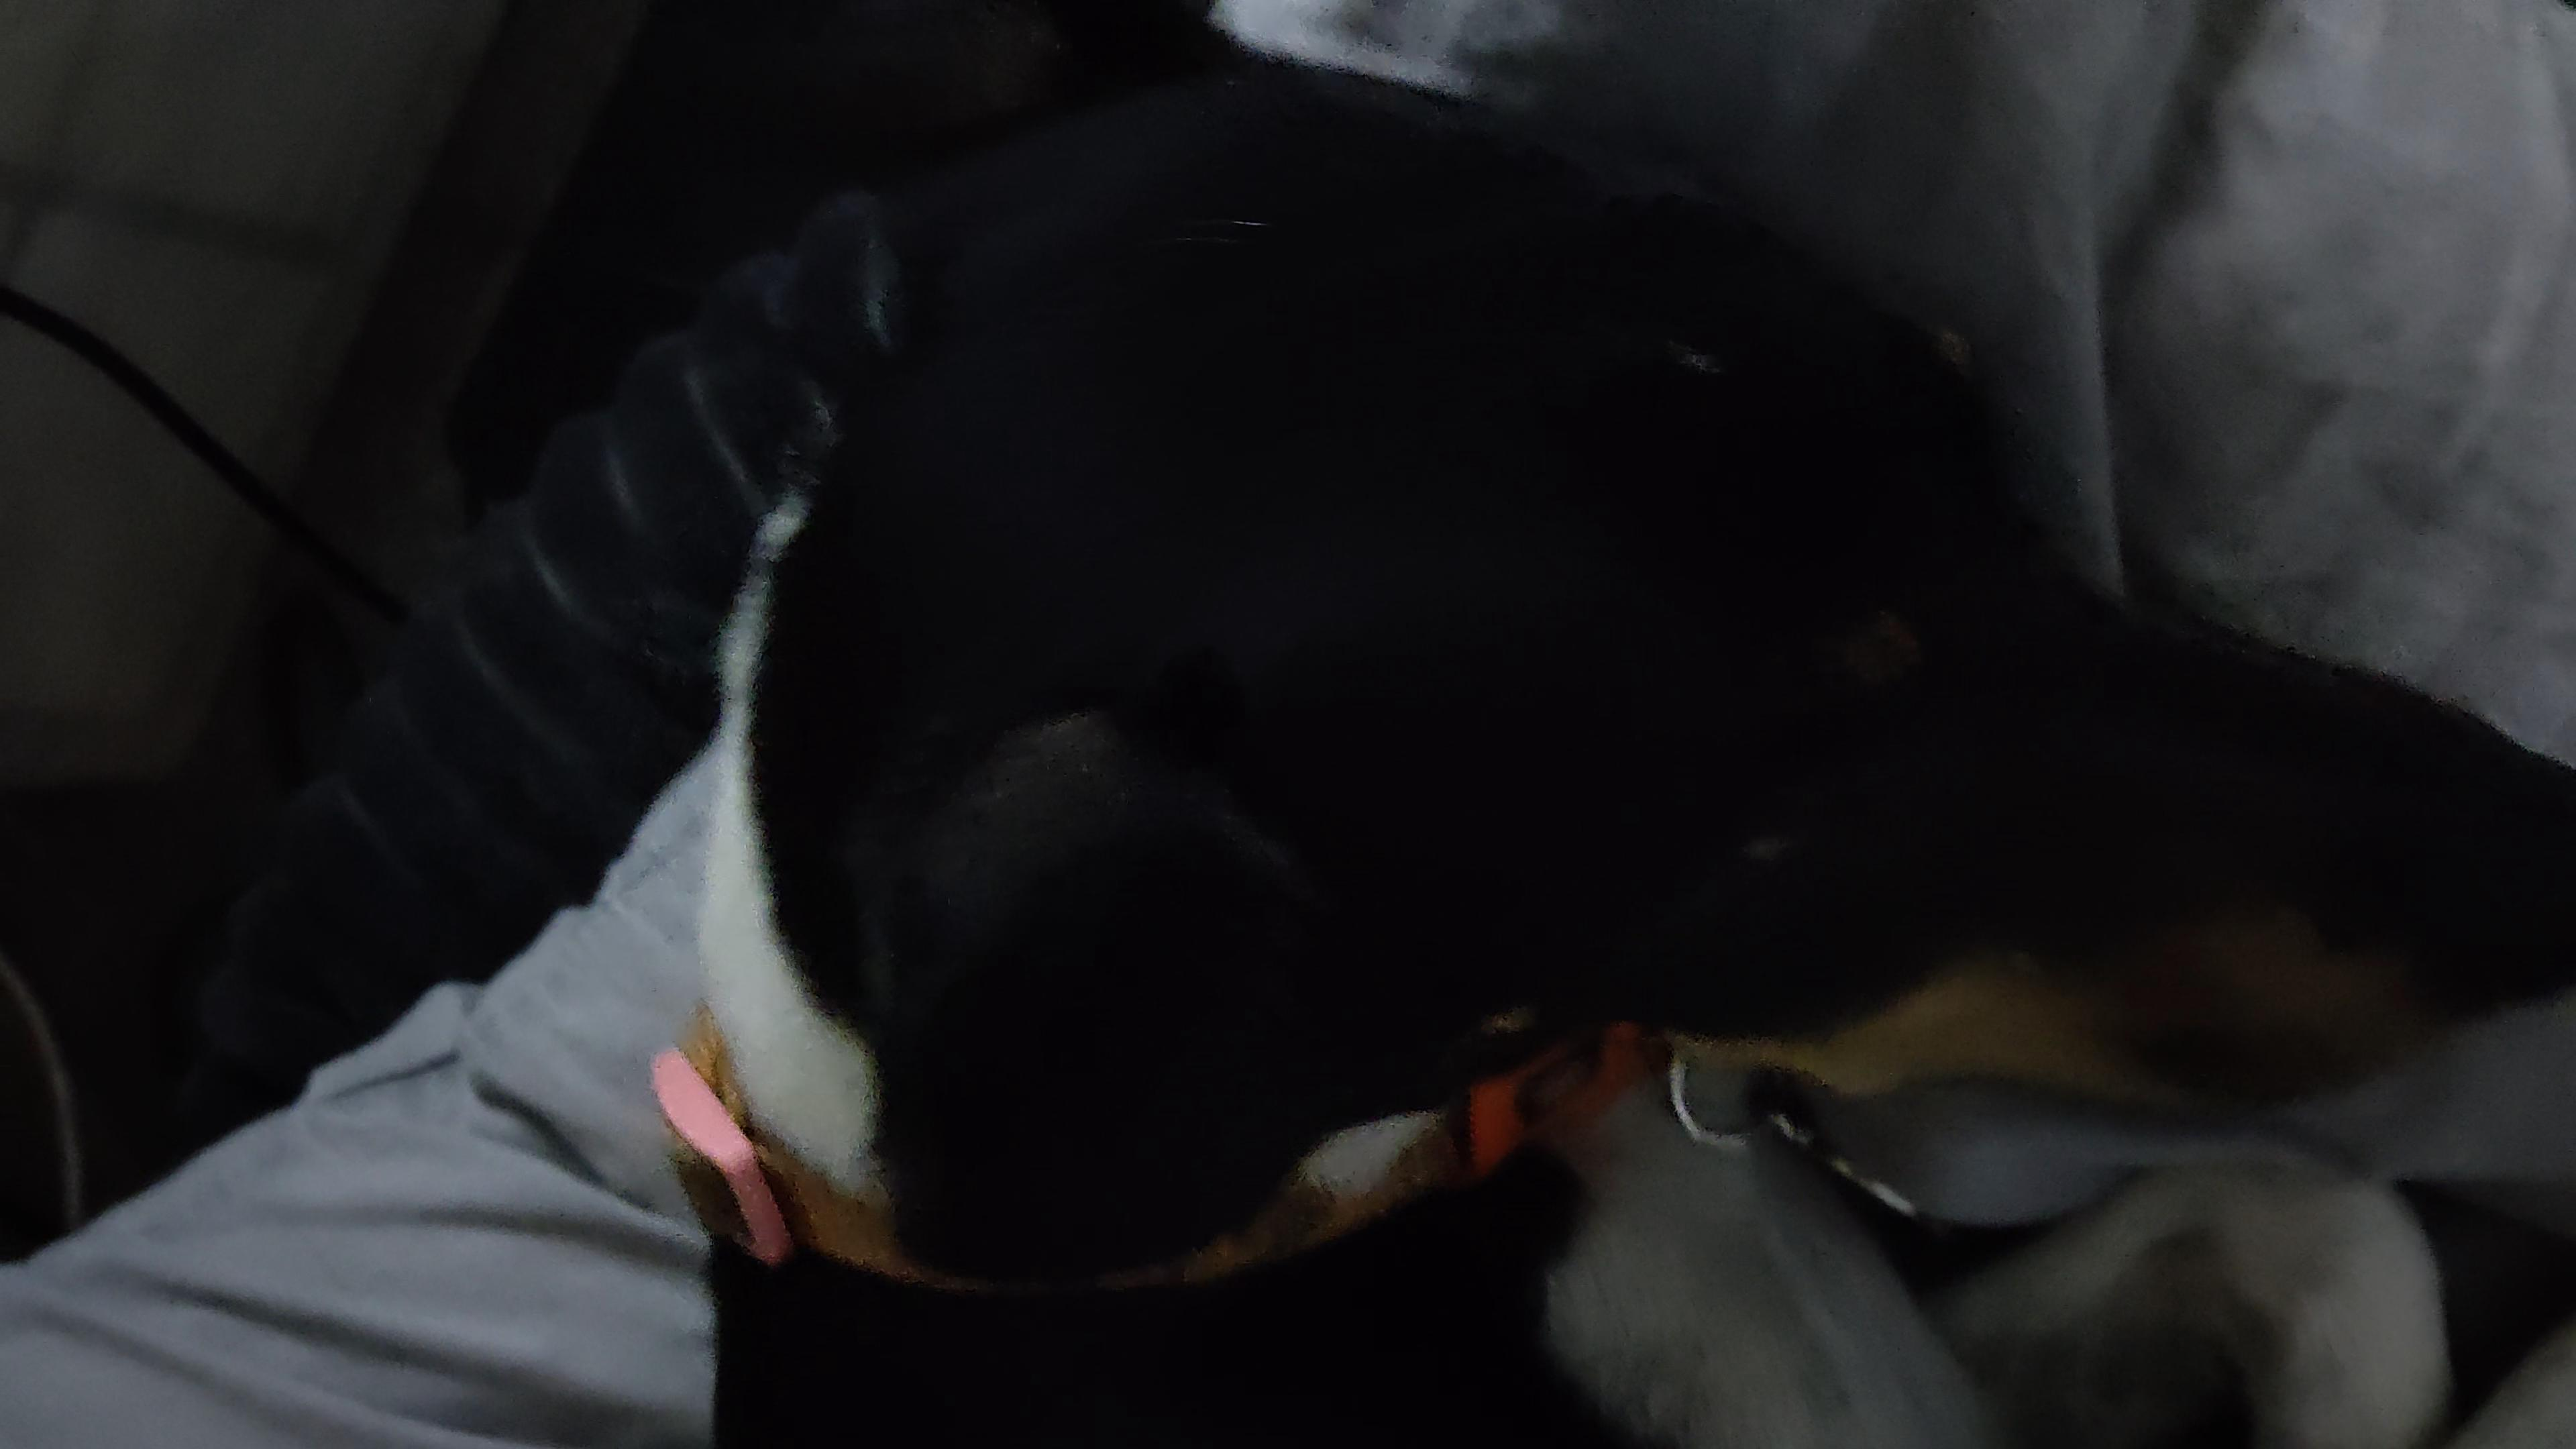Dog: (637, 0, 2576, 1449)
